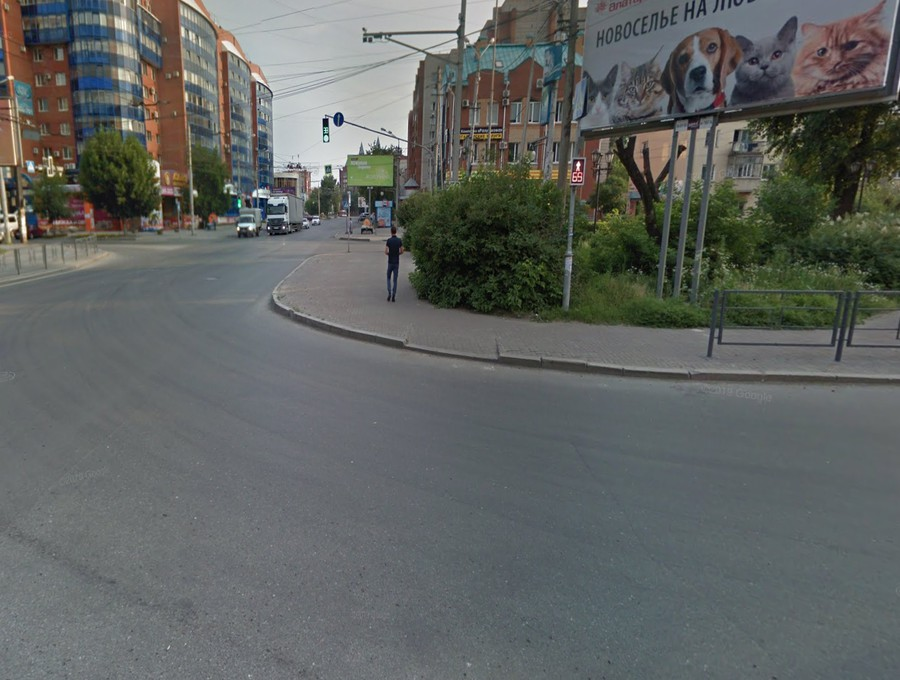Traffic Light-red: (571, 157, 586, 186)
